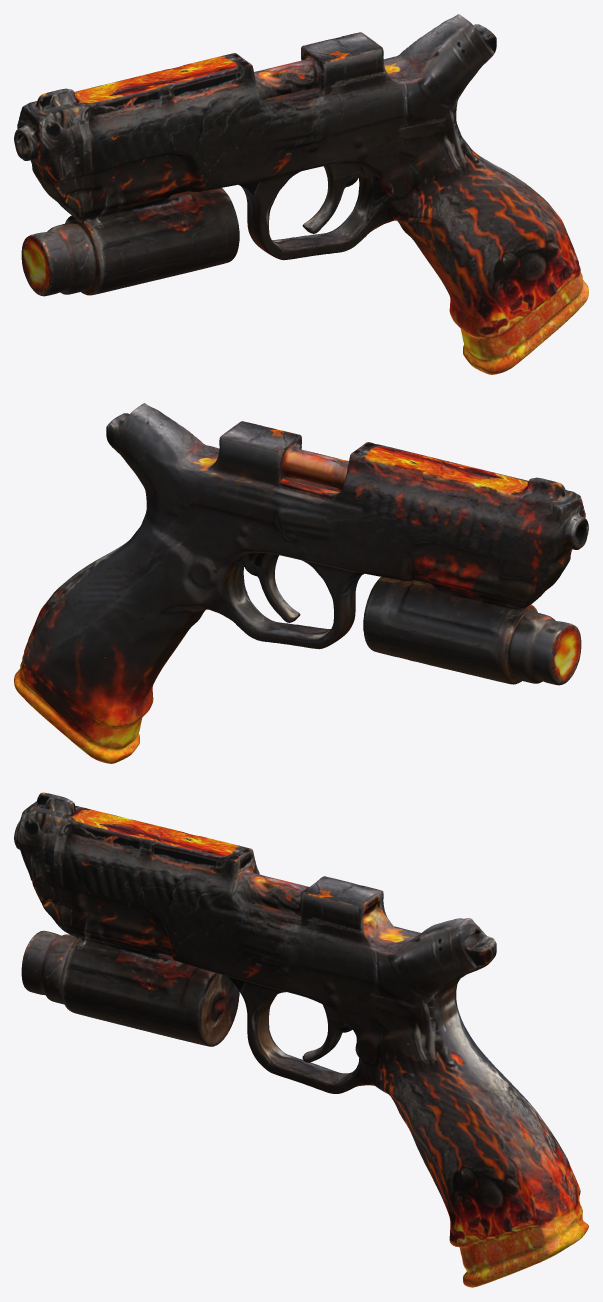
Rendered from MoltenPistol.glb.
3 views of the same model, one above another, from view 1: azimuth 30°, elevation 25°; view 2: azimuth 150°, elevation 25°; view 3: azimuth 330°, elevation 25° (orthographic).
Bounding box in the file's own units: 2 × 1.3 × 0.2803.
1 material, 1 textured.
